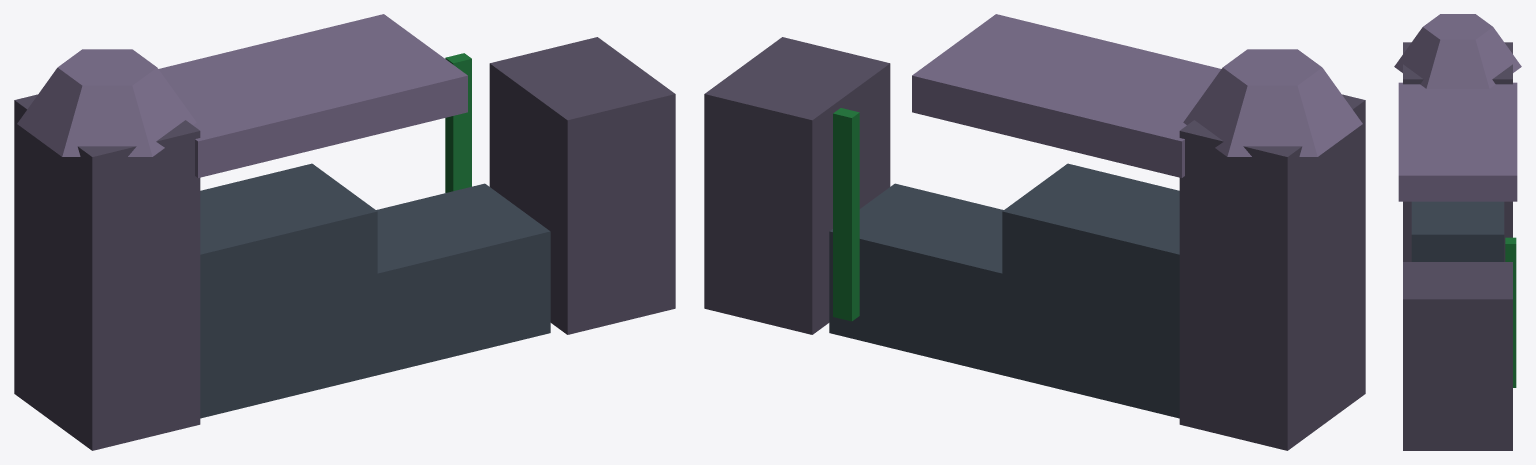
Rendered from ruin_wall.obj.
The picture shows the model from 3 angles, left to right: view 1: azimuth 30°, elevation 25°; view 2: azimuth 150°, elevation 25°; view 3: azimuth 270°, elevation 25°; orthographic projection. The views are drawn at different scales.
Parts seen in each view (by area): view 1: ruin_wall; view 2: ruin_wall; view 3: ruin_wall.
Boxes of the visible parts, bbox=[...] form: ruin_wall: bbox=[14, 14, 675, 450]; ruin_wall: bbox=[704, 14, 1365, 450]; ruin_wall: bbox=[1394, 14, 1521, 450].
Bounding box in the file's own units: 11.06 × 6.05 × 2.9.
